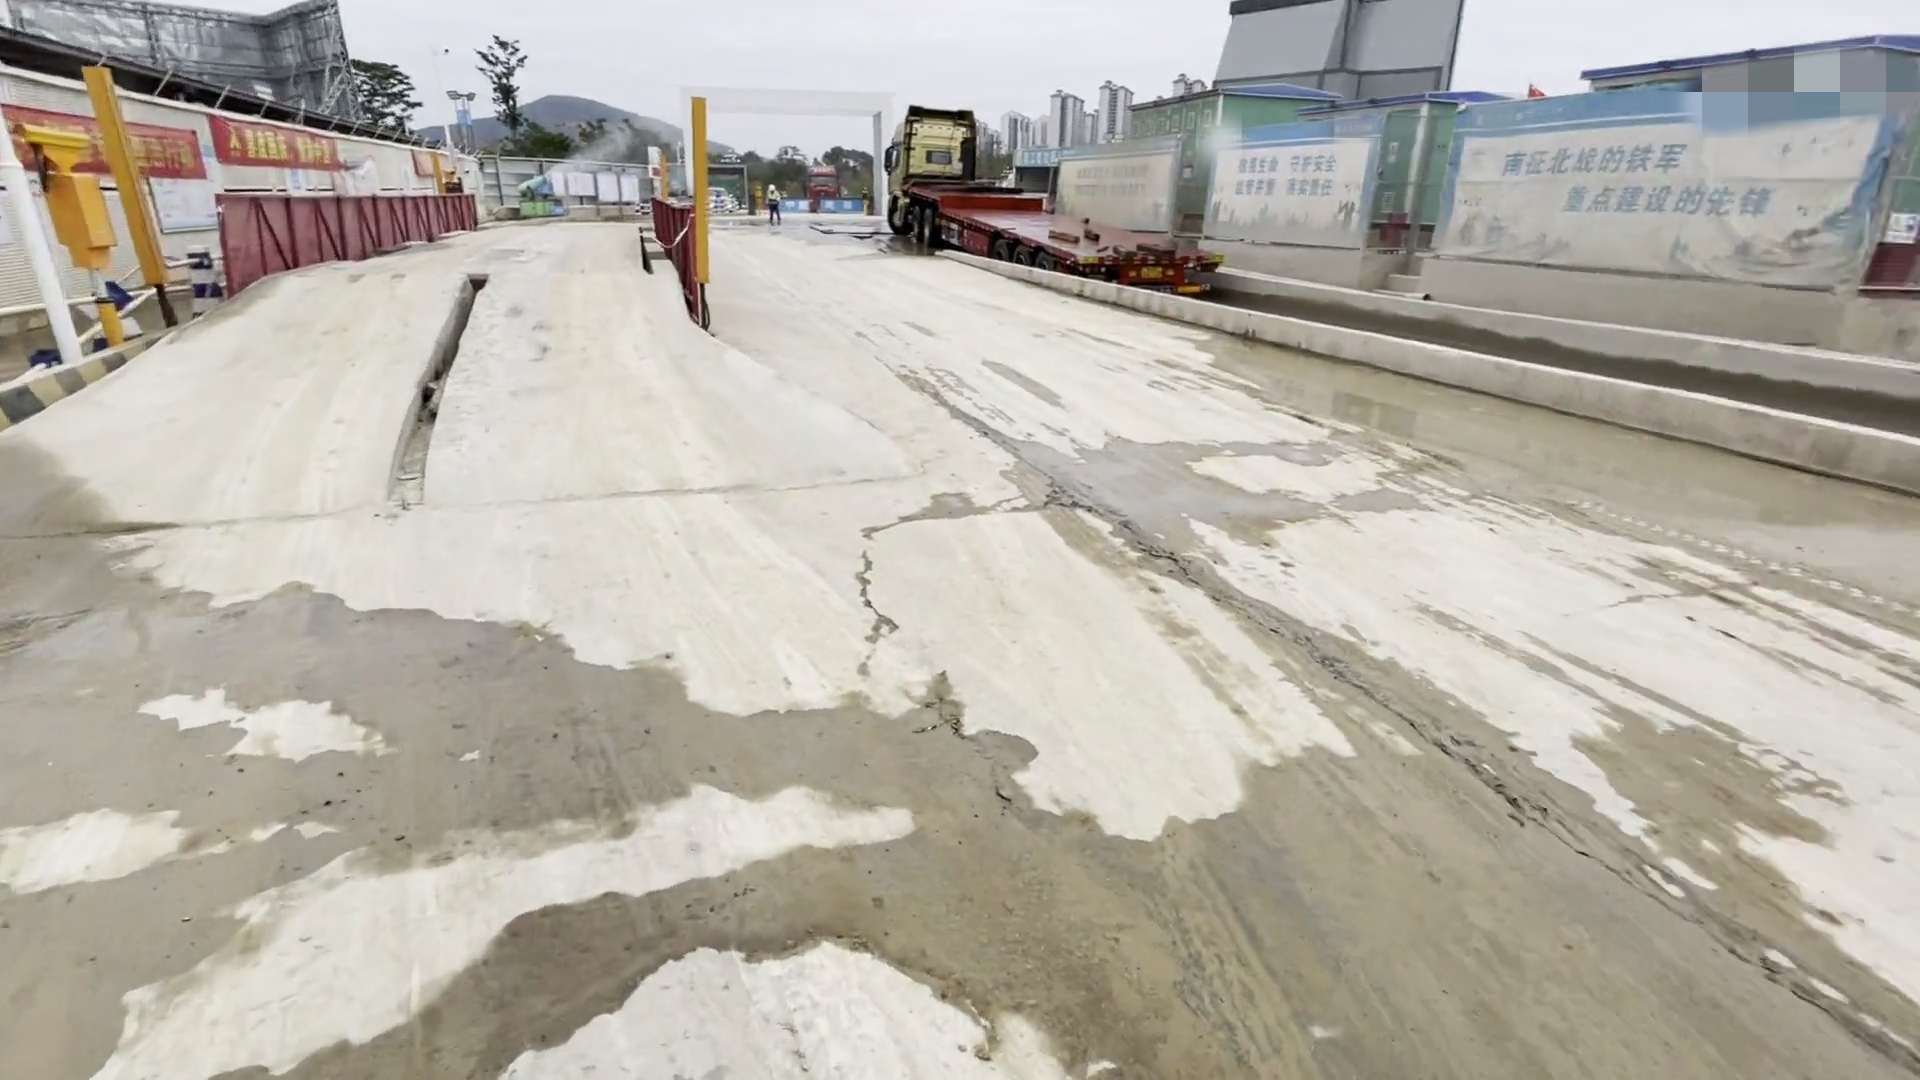fence: (202, 181, 493, 291)
slogan: (1052, 116, 1884, 264), (11, 90, 360, 183)
